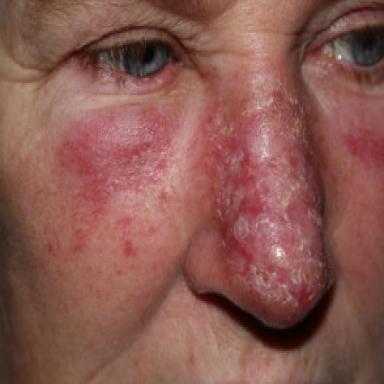Lupus-Erythematosus-Chronicus-Discoides: (206, 70, 327, 317), (58, 106, 171, 215)
